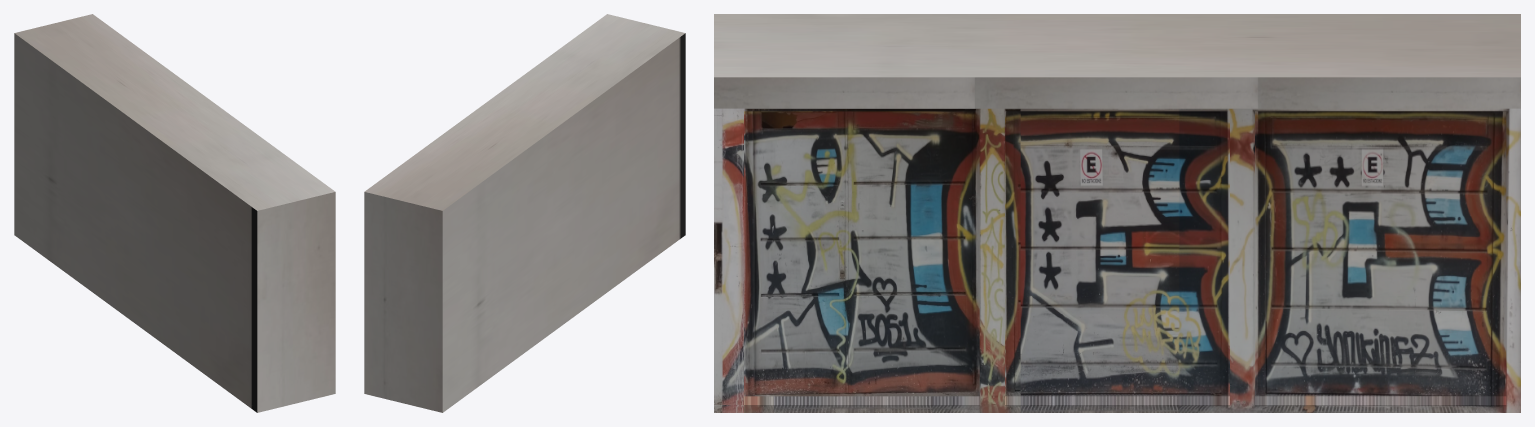
The model's file is triplemec.fbx.
The picture shows the model from 3 angles, left to right: view 1: azimuth 30°, elevation 25°; view 2: azimuth 150°, elevation 25°; view 3: azimuth 270°, elevation 25°; orthographic projection. The views are drawn at different scales.
Parts seen in each view (by area): view 1: Cube; view 2: Cube; view 3: Cube.001, Cube.
Boxes of the visible parts, x1,y1,x2,y2 form: Cube: [14, 14, 335, 412]; Cube: [364, 14, 685, 412]; Cube.001: [714, 77, 1520, 412]; Cube: [714, 14, 1520, 77].
Bounding box in the file's own units: 200 × 493 × 1074.
